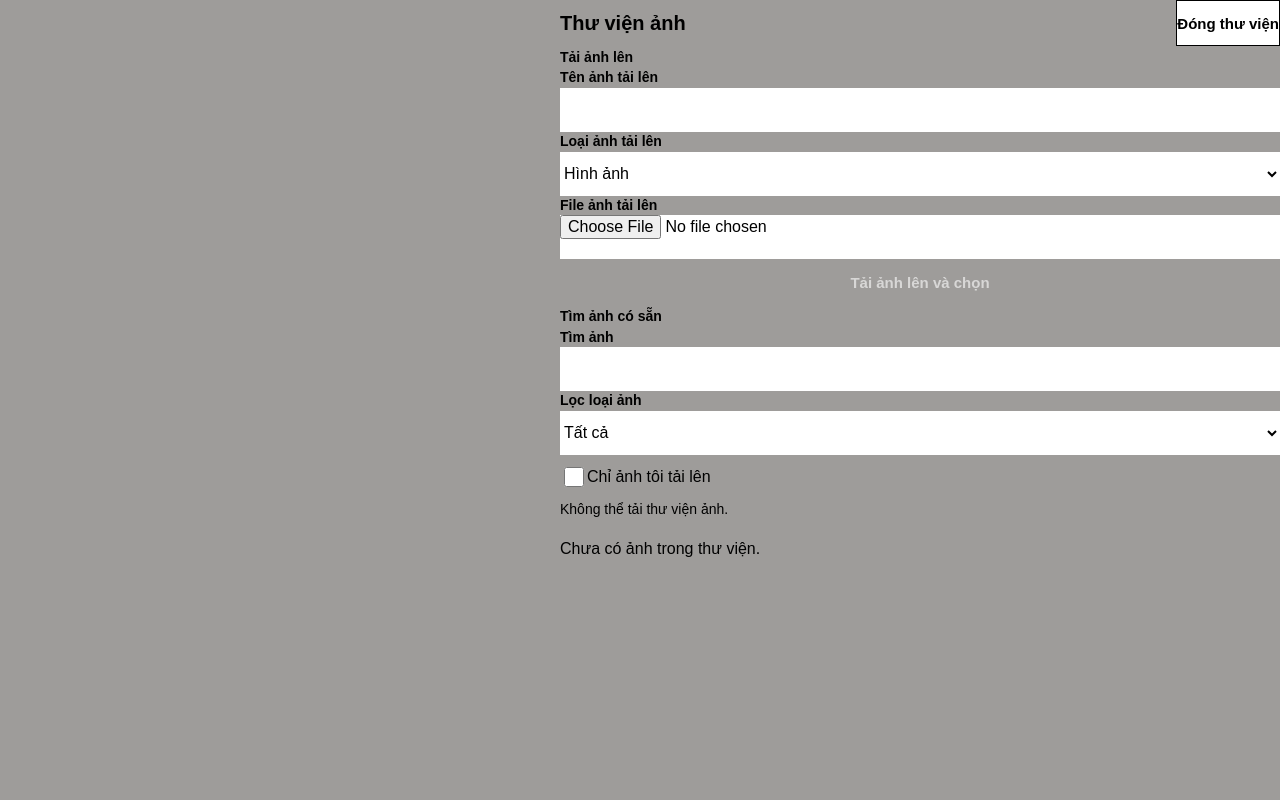
Scenario: template asset library › recovers from a failed search by running another query
Expected: the message reads "Không thể tải thư viện ảnh.", [560, 501, 728, 517]
Type "A" into the field labelled "Tìm ảnh".
click(920, 369); type("A")  # box [560, 347, 1279, 391]
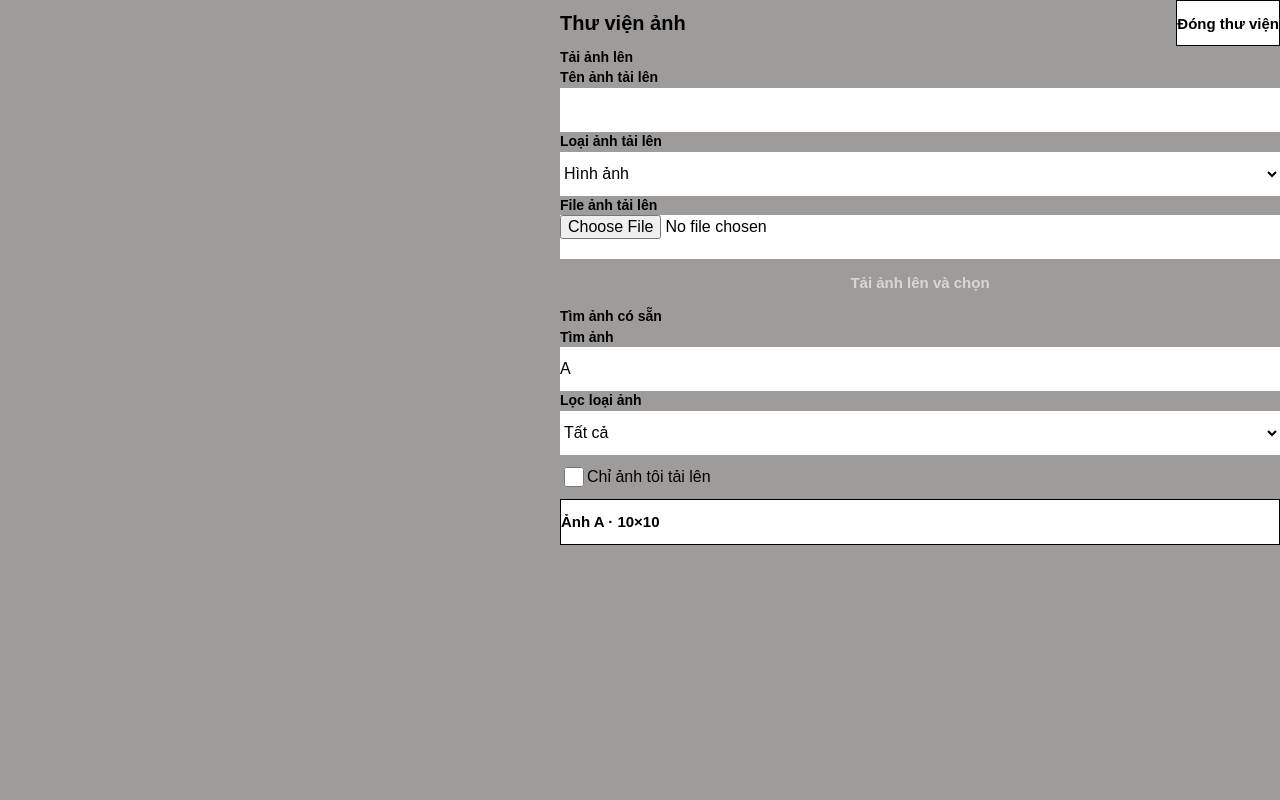
Expected: the button with aria-label "Chọn Ảnh A" is shown, [560, 499, 1279, 545]
Expected: the message "Không thể tải thư viện ảnh." is gone
